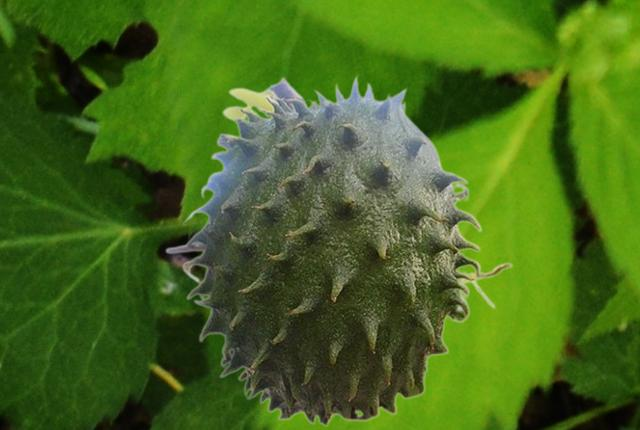guyabano: (164, 73, 513, 427)
